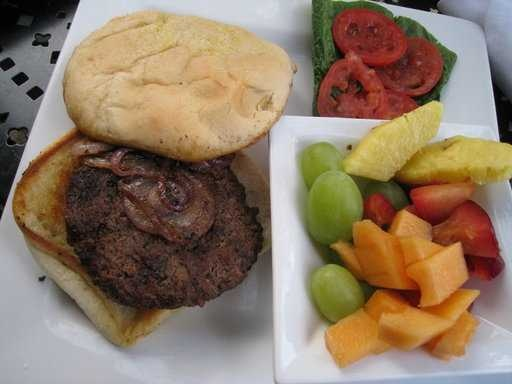hamburger: (21, 29, 291, 332)
